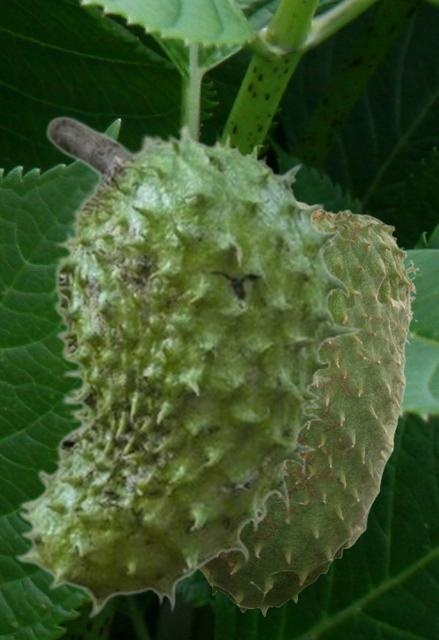guyabano: (13, 115, 362, 618), (198, 200, 418, 615)
